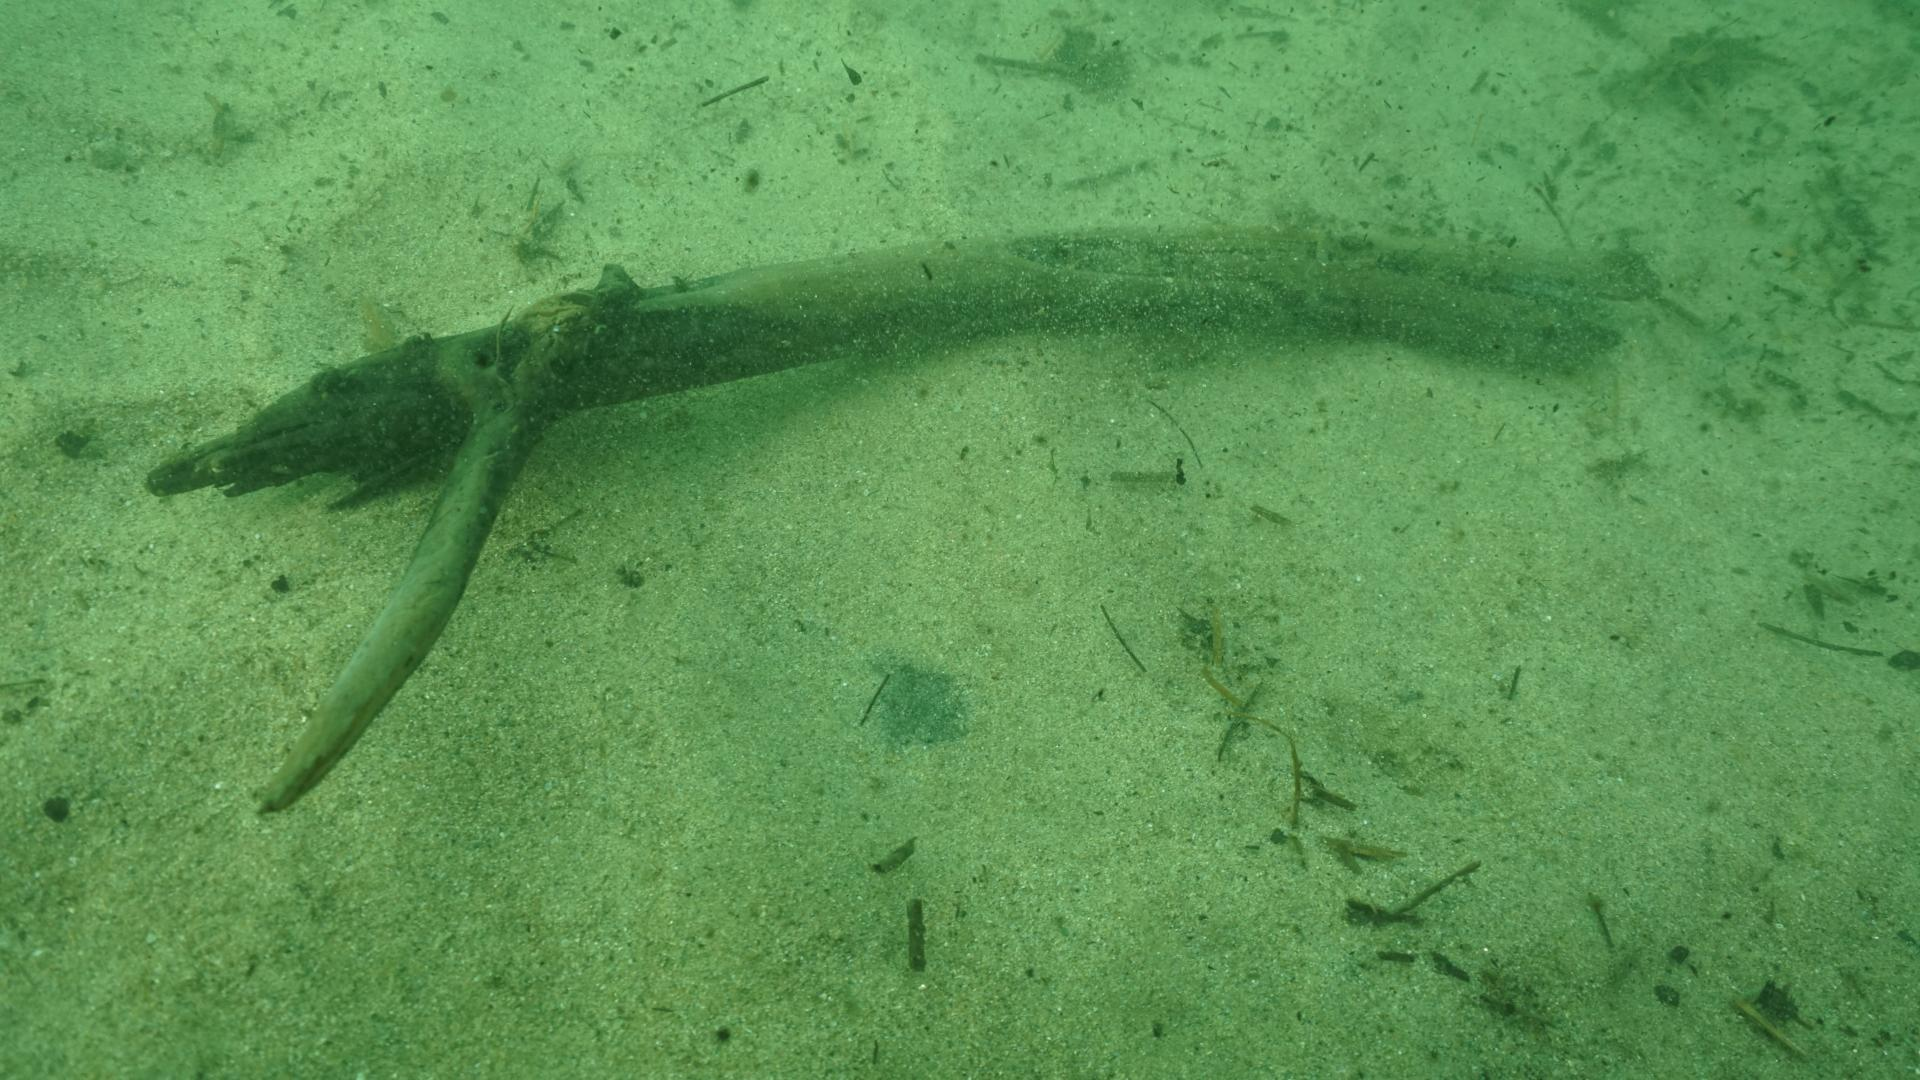wood: (145, 225, 1654, 818)
